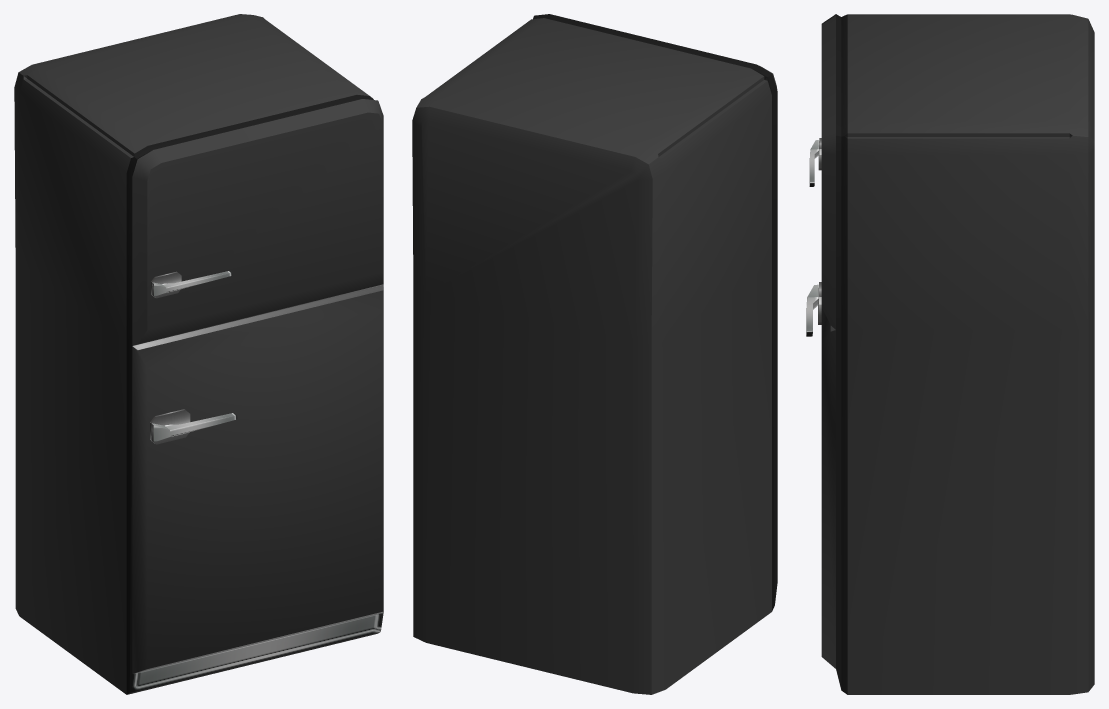
Rendered from Fridge_03.FBX.
3 views of the same model, side by side, from view 1: azimuth 30°, elevation 25°; view 2: azimuth 150°, elevation 25°; view 3: azimuth 270°, elevation 25° (orthographic). The views are drawn at different scales.
Parts seen in each view (by area): view 1: Fridge; view 2: Fridge; view 3: Fridge.
Boxes of the visible parts, box(x1,y1,x2,y2) form: Fridge: box(14, 14, 383, 694); Fridge: box(412, 14, 777, 694); Fridge: box(806, 14, 1094, 694).
Size of the model in its own units: 145 by 300 by 139.
